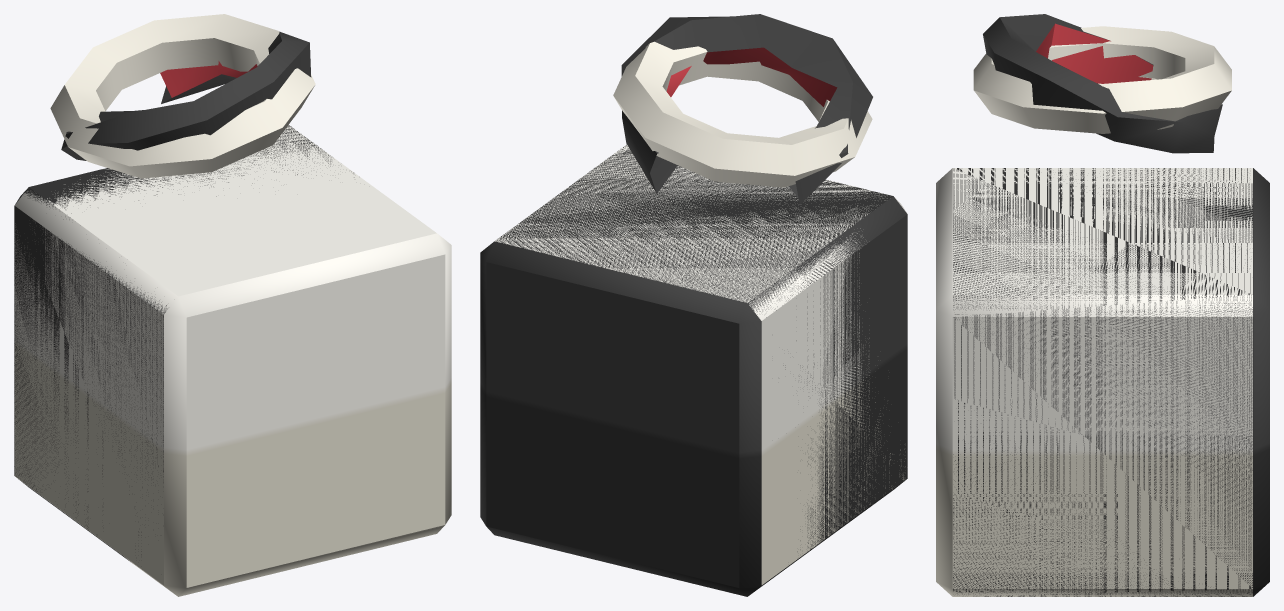
The model's file is primitiivit.fbx.
3 renders of one model, left to right at view 1: azimuth 30°, elevation 25°; view 2: azimuth 150°, elevation 25°; view 3: azimuth 270°, elevation 25°, orthographic. The views are drawn at different scales.
Visible parts, largest first — view 1: heaven.001, Torus.001, hell, Torus.002; view 2: hell, heaven.001, Torus.001, Torus.002; view 3: heaven.001, hell, Torus.001, Torus.002.
Boxes of the visible parts, bbox=[...] form: heaven.001: bbox=[14, 125, 451, 596]; Torus.001: bbox=[50, 14, 315, 178]; hell: bbox=[14, 125, 354, 561]; Torus.002: bbox=[61, 31, 311, 160]; hell: bbox=[480, 144, 907, 596]; heaven.001: bbox=[495, 145, 906, 584]; Torus.001: bbox=[613, 41, 872, 187]; Torus.002: bbox=[621, 14, 872, 204]; heaven.001: bbox=[936, 168, 1252, 596]; hell: bbox=[953, 168, 1269, 596]; Torus.001: bbox=[973, 26, 1231, 133]; Torus.002: bbox=[983, 14, 1222, 153].
Size of the model in its own units: 1.07 by 1.6 by 1.
